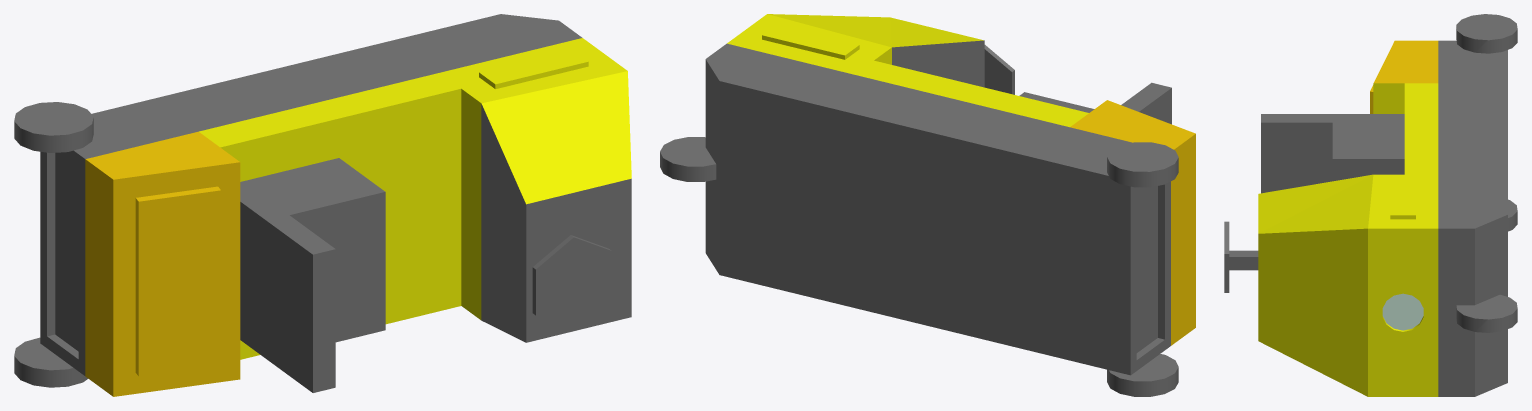
File: sitting_tow_tractor.dae
3 views of the same model, side by side, from view 1: azimuth 30°, elevation 25°; view 2: azimuth 150°, elevation 25°; view 3: azimuth 270°, elevation 25° (orthographic). The views are drawn at different scales.
Visible parts, largest first — view 1: instance_0_010, instance_0_008, instance_0_005, instance_0_003, instance_0_011, instance_0_001, instance_0, instance_0_012, instance_0_006; view 2: instance_0_008, instance_0_010, instance_0_003, instance_0, instance_0_011, instance_0_009, instance_0_005, instance_0_006, instance_0_012; view 3: instance_0_010, instance_0_008, instance_0_005, instance_0_003, instance_0_009, instance_0_004, instance_0_006, instance_0_013, instance_0_012.
Boxes of the visible parts, x1,y1,x2,y2 form: instance_0_010: (199, 38, 631, 359); instance_0_008: (14, 14, 582, 387); instance_0_005: (240, 158, 385, 392); instance_0_003: (85, 131, 240, 396); instance_0_011: (481, 103, 631, 342); instance_0_001: (135, 186, 220, 376); instance_0: (47, 152, 78, 358); instance_0_012: (532, 235, 611, 328); instance_0_006: (479, 49, 588, 89); instance_0_008: (705, 43, 1178, 396); instance_0_010: (727, 14, 1088, 127); instance_0_003: (1070, 100, 1195, 345); instance_0: (1136, 184, 1164, 359); instance_0_011: (892, 40, 984, 87); instance_0_009: (660, 137, 716, 181); instance_0_005: (1019, 82, 1171, 124); instance_0_006: (762, 24, 859, 59); instance_0_012: (984, 45, 1014, 94); instance_0_010: (1258, 83, 1438, 396); instance_0_008: (1438, 14, 1517, 396); instance_0_005: (1261, 114, 1404, 193); instance_0_003: (1374, 40, 1438, 83); instance_0_009: (1456, 294, 1517, 332); instance_0_004: (1382, 293, 1423, 330); instance_0_006: (1390, 180, 1415, 219); instance_0_013: (1229, 250, 1258, 270); instance_0_012: (1224, 221, 1229, 292).
Size of the model in its own units: 864 by 365 by 497.
